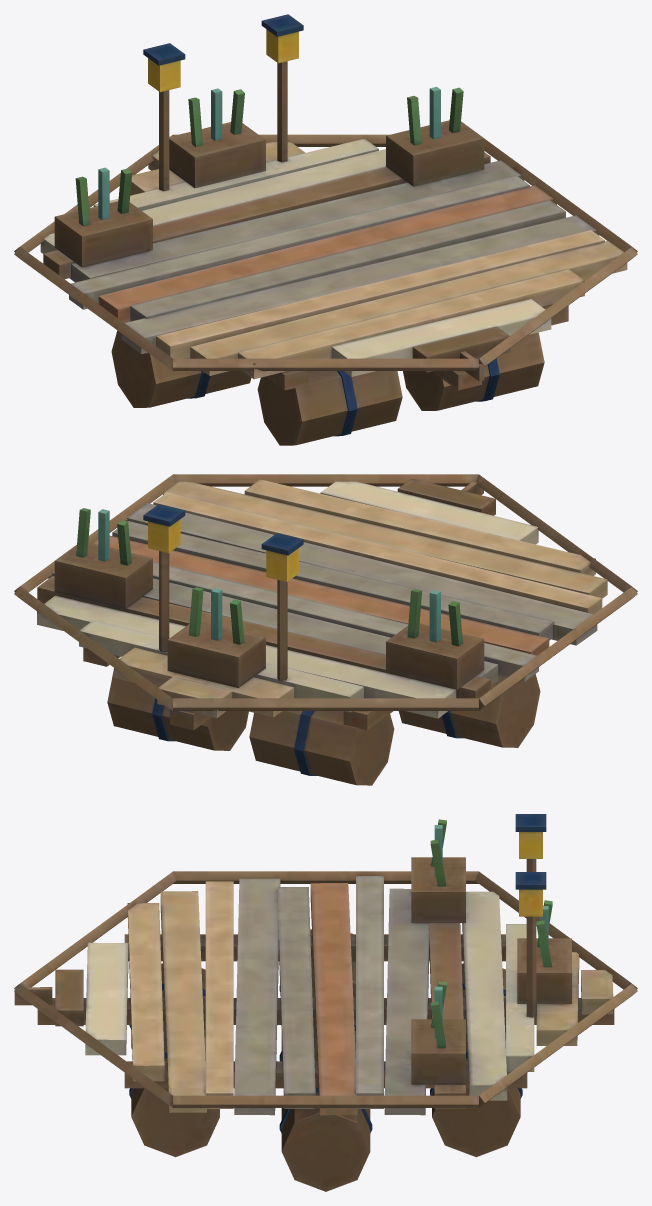
The model's file is raft-c-age1.glb.
The picture shows the model from 3 angles, top to bottom: view 1: azimuth 30°, elevation 25°; view 2: azimuth 150°, elevation 25°; view 3: azimuth 270°, elevation 25°; orthographic projection.
Visible parts, largest first — view 1: raft-c-age1; view 2: raft-c-age1; view 3: raft-c-age1.
Boxes of the visible parts, bbox=[...] form: raft-c-age1: bbox=[14, 14, 637, 445]; raft-c-age1: bbox=[14, 474, 637, 785]; raft-c-age1: bbox=[14, 814, 637, 1191].
Size of the model in its own units: 1.59 by 0.809 by 1.83.
1 material, 1 textured.
